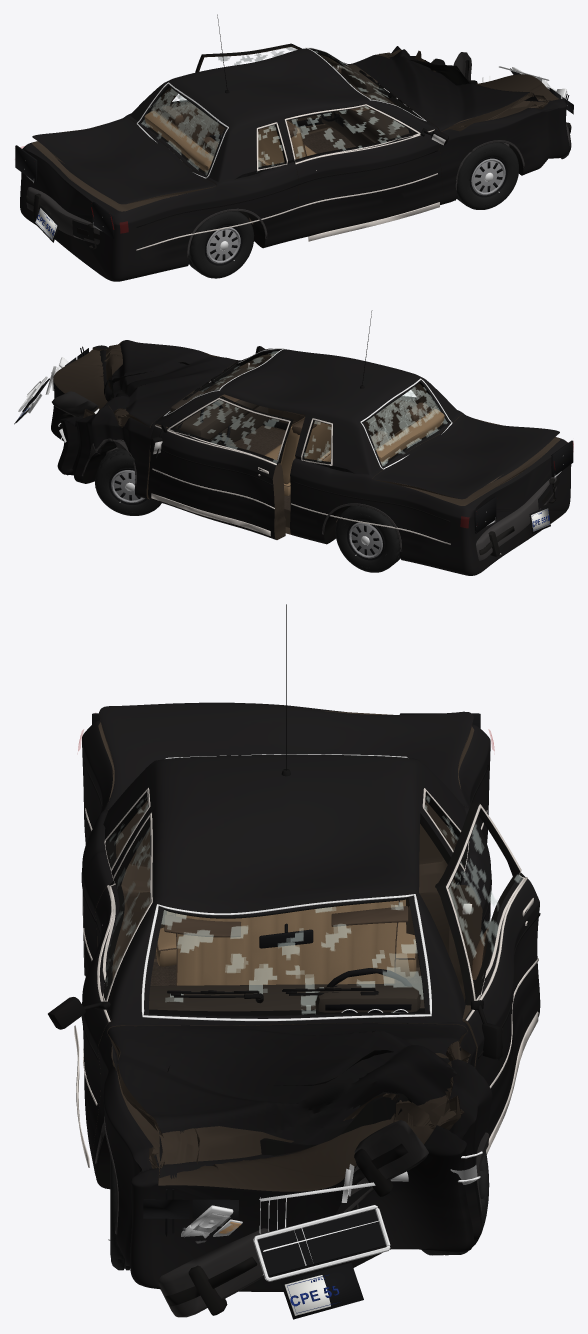
File: coupe84_front_corner_d2_lod1.glb
The picture shows the model from 3 angles, top to bottom: view 1: azimuth 30°, elevation 25°; view 2: azimuth 150°, elevation 25°; view 3: azimuth 270°, elevation 25°; orthographic projection. The views are drawn at different scales.
Parts seen in each view (by area): view 1: Body, Door_FR, Trunk, Hood, Interior, Glass, Wheel_RR_mesh, Wheel_FR_mesh, Trim_FR, Ends, Trim, Bumper_R (+3 smaller); view 2: Body, Door_FL, Trunk, Hood, Interior, Wheel_RL_mesh, Glass, Wheel_FL_mesh, Ends, Trim_FL, Bumper_R, Trim (+3 smaller); view 3: Body, Hood, Interior, Trunk, Ends, Door_FL, Bumper_F, Glass, Door_FR, Trim_FL, Trim, Trim_FR (+2 smaller).
Boxes of the visible parts, x1,y1,x2,y2 form: Body: [20, 46, 569, 281]; Door_FR: [284, 103, 443, 238]; Trunk: [32, 116, 216, 204]; Hood: [351, 49, 550, 131]; Interior: [144, 64, 413, 172]; Glass: [136, 47, 426, 178]; Wheel_RR_mesh: [189, 211, 254, 278]; Wheel_FR_mesh: [456, 142, 518, 209]; Trim_FR: [284, 104, 448, 241]; Ends: [15, 59, 573, 242]; Trim: [136, 14, 525, 257]; Bumper_R: [25, 187, 102, 249]; Body: [51, 345, 571, 575]; Door_FL: [148, 396, 293, 539]; Trunk: [373, 414, 559, 499]; Hood: [100, 340, 238, 427]; Interior: [170, 367, 444, 495]; Wheel_RL_mesh: [335, 505, 400, 572]; Glass: [163, 348, 452, 469]; Wheel_FL_mesh: [95, 448, 161, 515]; Ends: [14, 346, 573, 533]; Trim_FL: [150, 398, 290, 536]; Bumper_R: [476, 476, 559, 560]; Trim: [82, 310, 450, 551]; Body: [82, 720, 492, 1291]; Hood: [107, 1023, 467, 1178]; Interior: [149, 899, 424, 1012]; Trunk: [99, 702, 473, 810]; Ends: [92, 713, 482, 1319]; Door_FL: [435, 802, 540, 1138]; Bumper_F: [158, 1120, 428, 1317]; Glass: [107, 754, 463, 1021]; Door_FR: [82, 811, 153, 1162]; Trim_FL: [446, 804, 540, 1154]; Trim: [81, 604, 491, 1234]; Trim_FR: [48, 812, 152, 1167].
Bounding box in the file's own units: 5.31 × 2.19 × 2.18.
34 materials, 5 textured.
